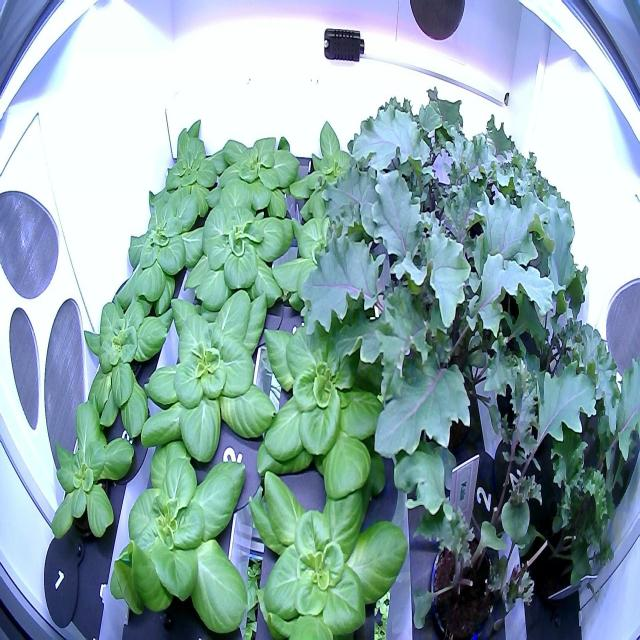young: (101, 430, 258, 640), (234, 460, 414, 639), (247, 304, 404, 506), (136, 262, 278, 468), (76, 273, 180, 454), (268, 187, 392, 325), (43, 387, 140, 560), (176, 181, 296, 317), (110, 173, 214, 316), (286, 110, 380, 237), (200, 120, 306, 230), (154, 109, 230, 221)
